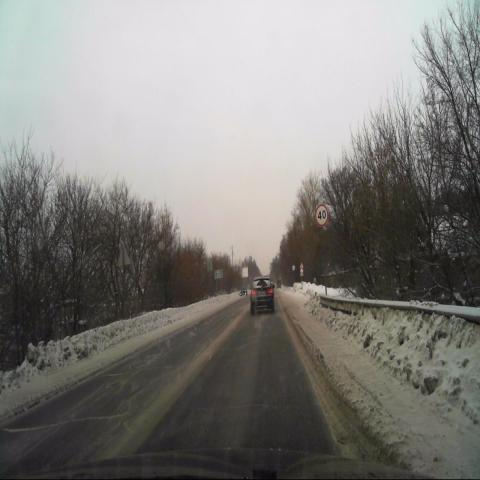3_24: (315, 204, 328, 227)
